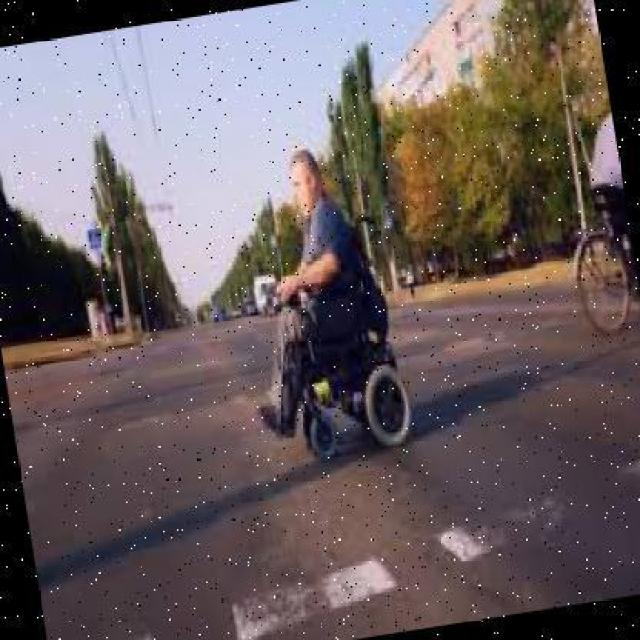Person: (218, 138, 413, 464)
